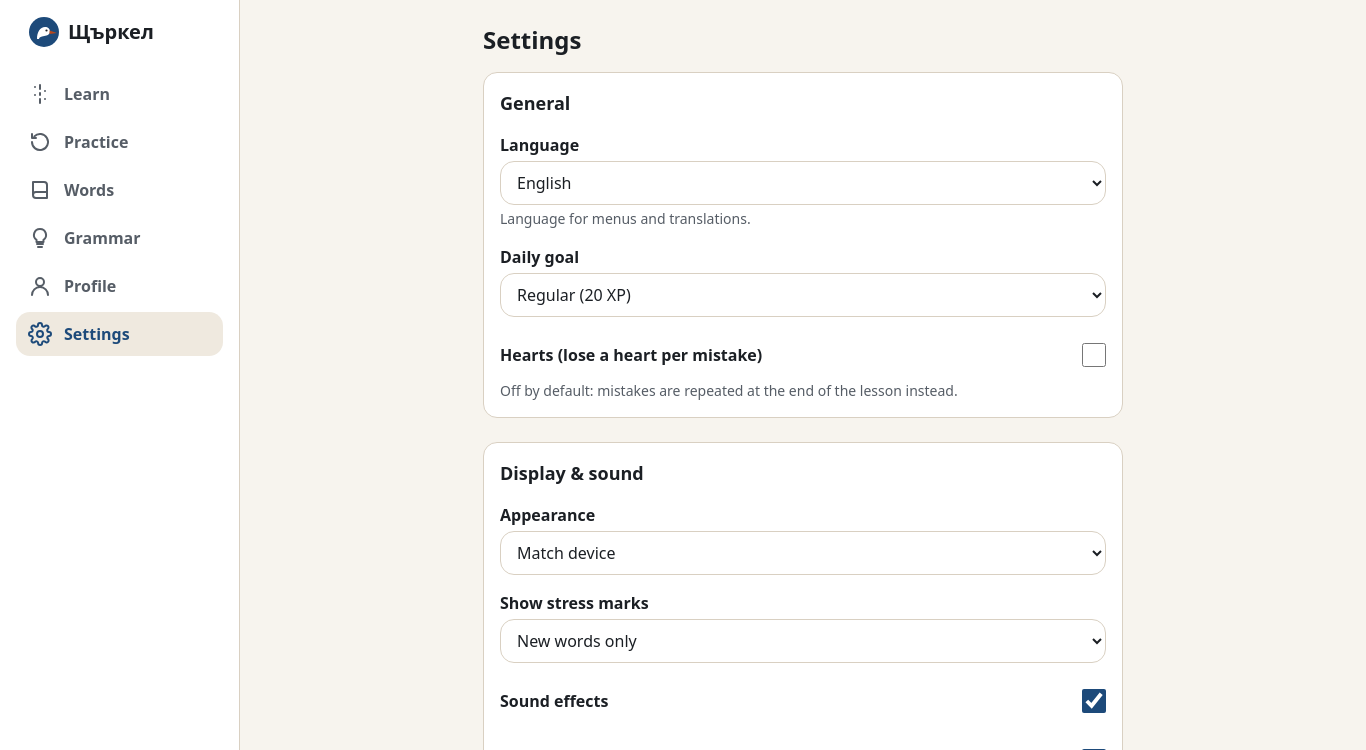
it: app shell › switches the whole UI to Turkish and persists the choice
Select "Türkçe" in the dropdown labelled "Language" at [803, 183], box [500, 161, 1106, 205]
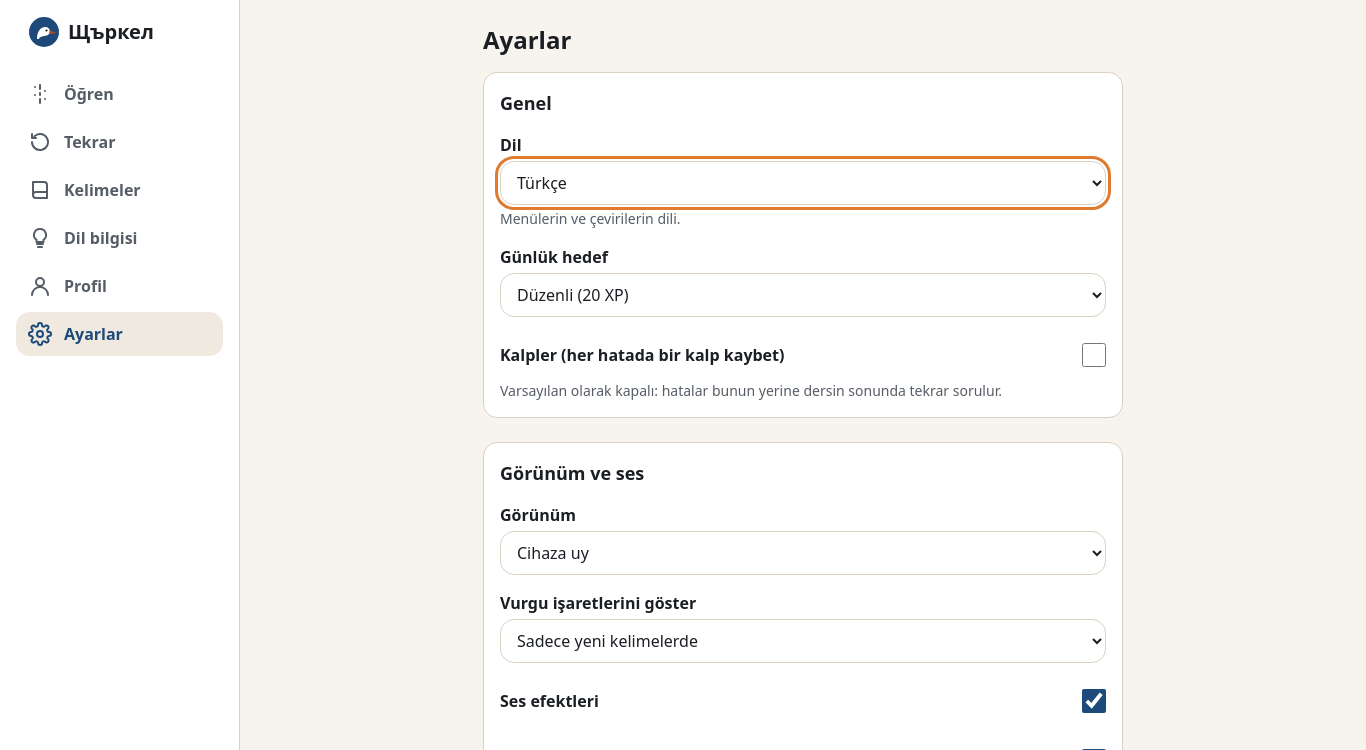
expect the heading "Ayarlar" is shown: met, box [483, 23, 571, 56]
